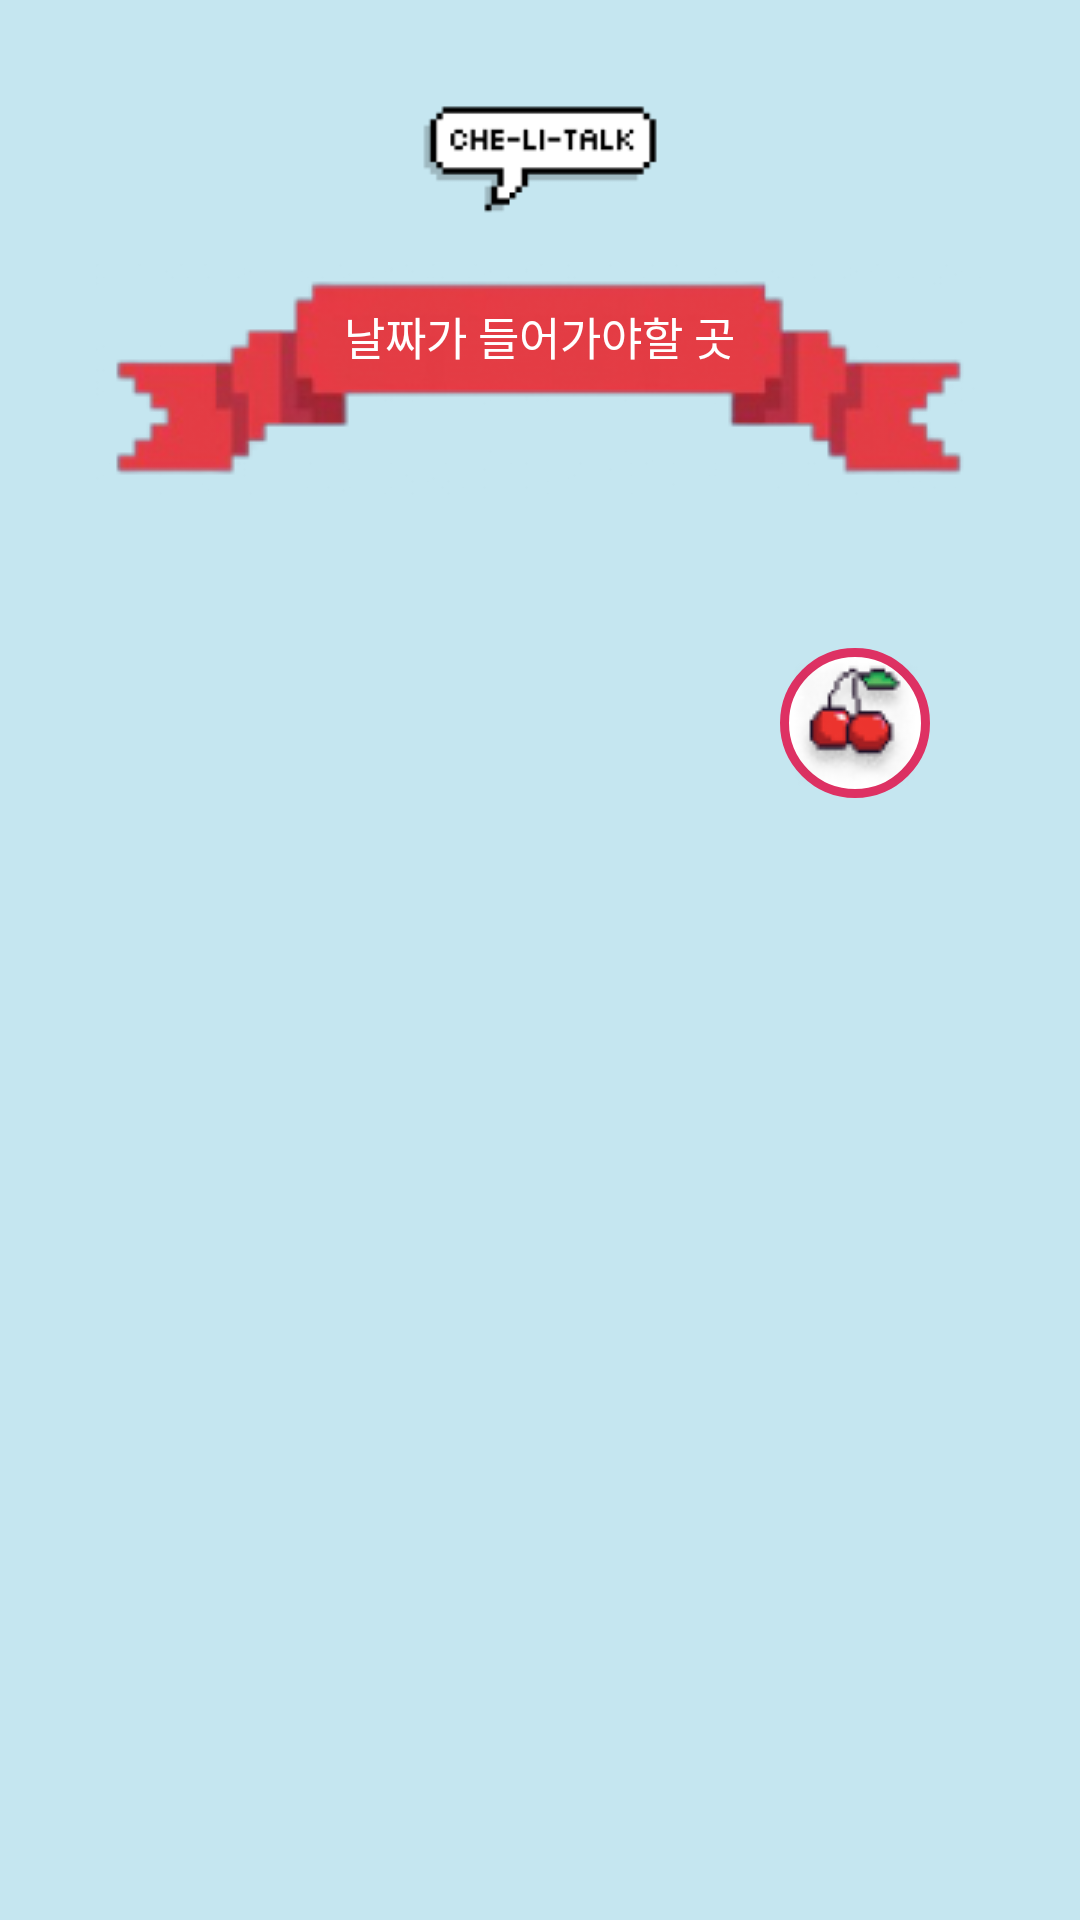

Screen size 1080w x 1920h. Icon name, then its box in pixels as (x1, y1, x2, y2):
cherries: (780, 648, 930, 798)
